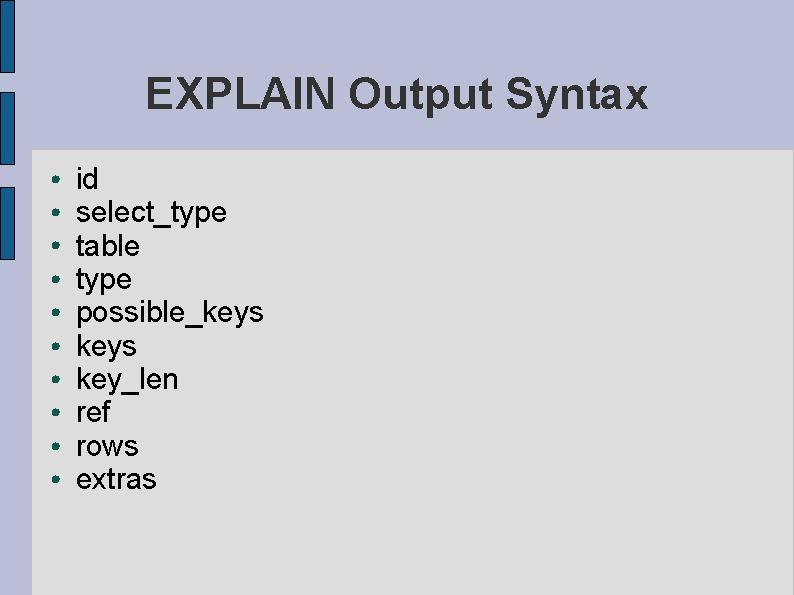paragraph: (139, 60, 658, 125)
subtitle: (73, 293, 280, 331), (66, 193, 233, 230), (65, 361, 191, 396), (64, 257, 155, 294), (68, 460, 166, 494), (67, 229, 152, 266), (68, 330, 156, 364), (68, 427, 156, 460), (72, 395, 120, 429), (72, 162, 102, 199)
